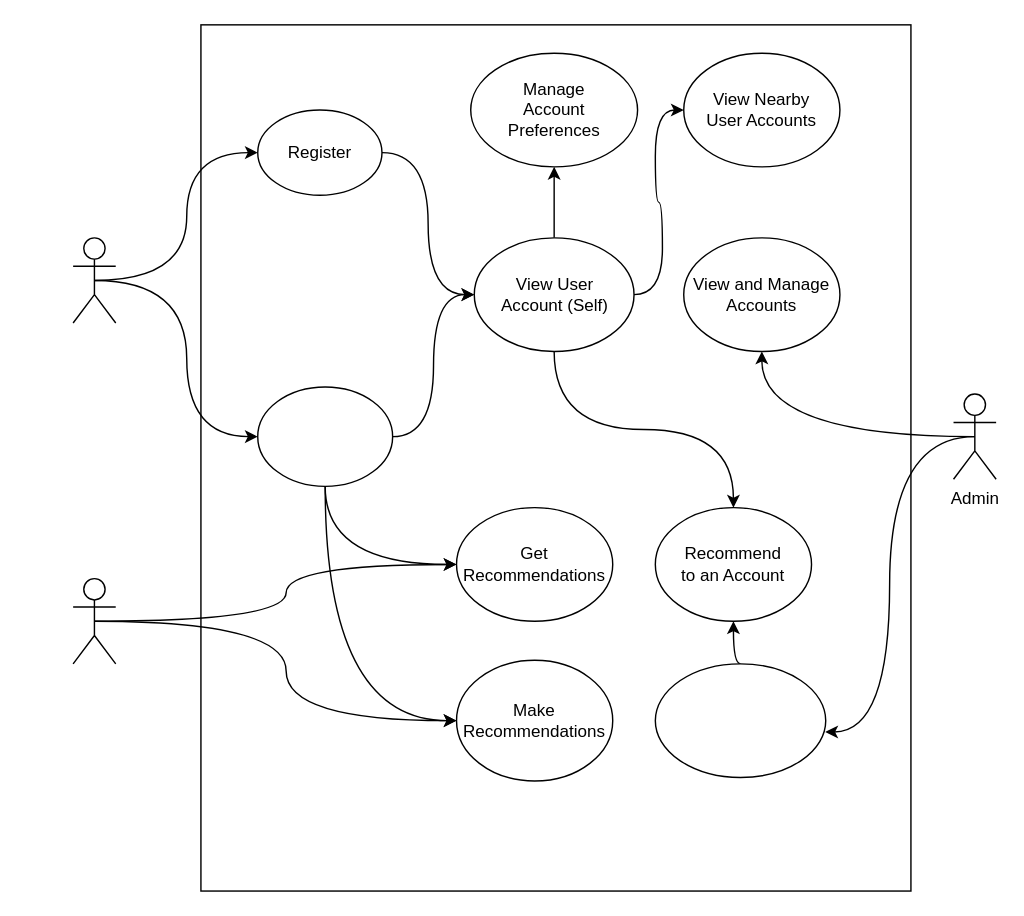
Image size: 1024x916. Some labels were removed from this diagram. Each missing label, with the centre of its shape:
"Account User" goes at pixel 94 279.
"Login" goes at pixel 324 436.
"Non-Account User" goes at pixel 94 620.
"View and Manage Recommendations" goes at pixel 740 719.
